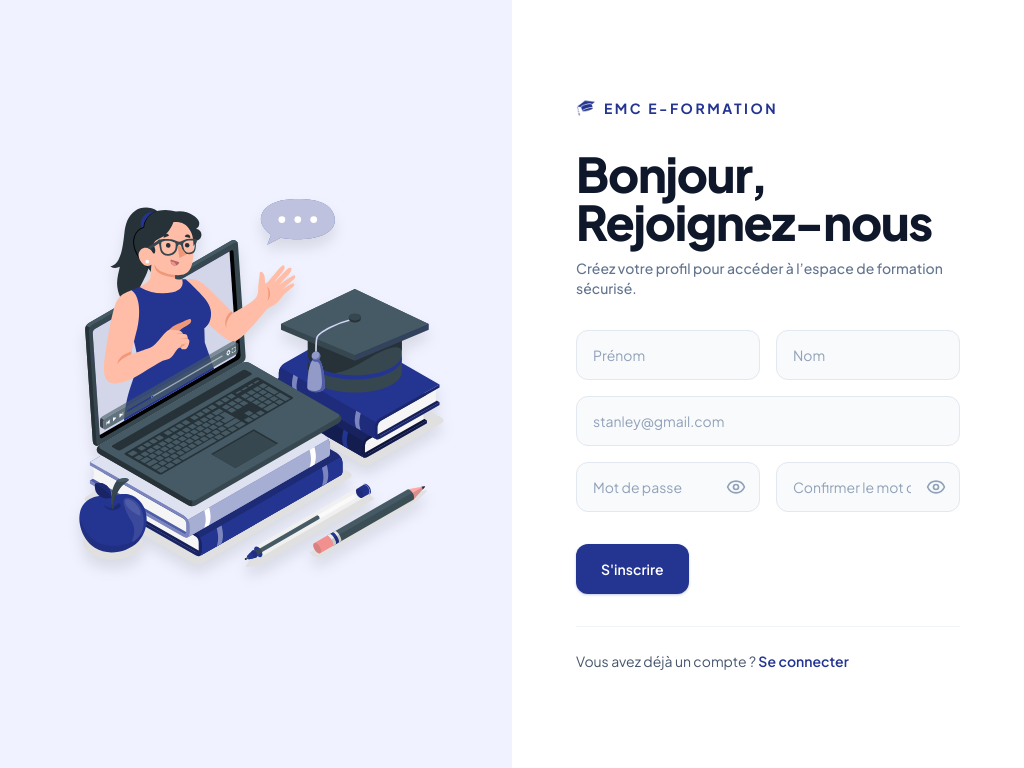
Scenario: Intégration — authentification › signale un e-mail déjà utilisé à l’inscription
Type "Amina" into the field with placeholder "Prénom" at point(668, 354), box [576,330,760,380]
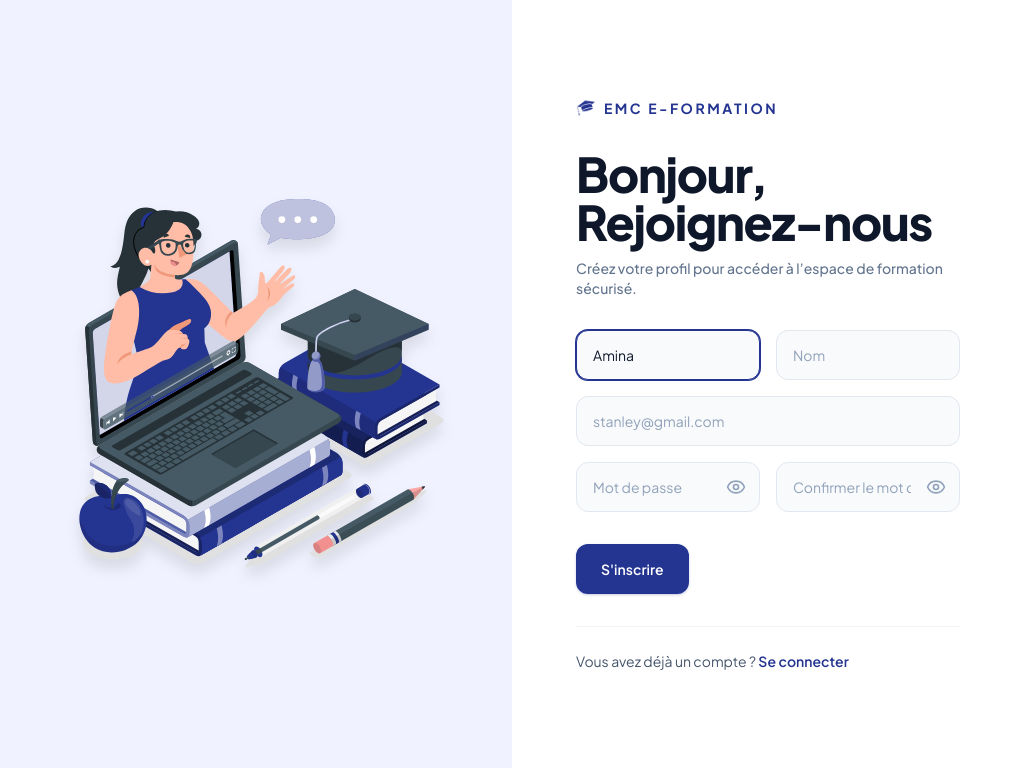
Type "Benali" into the field with placeholder "Nom" at point(868, 354), box [776,330,960,380]
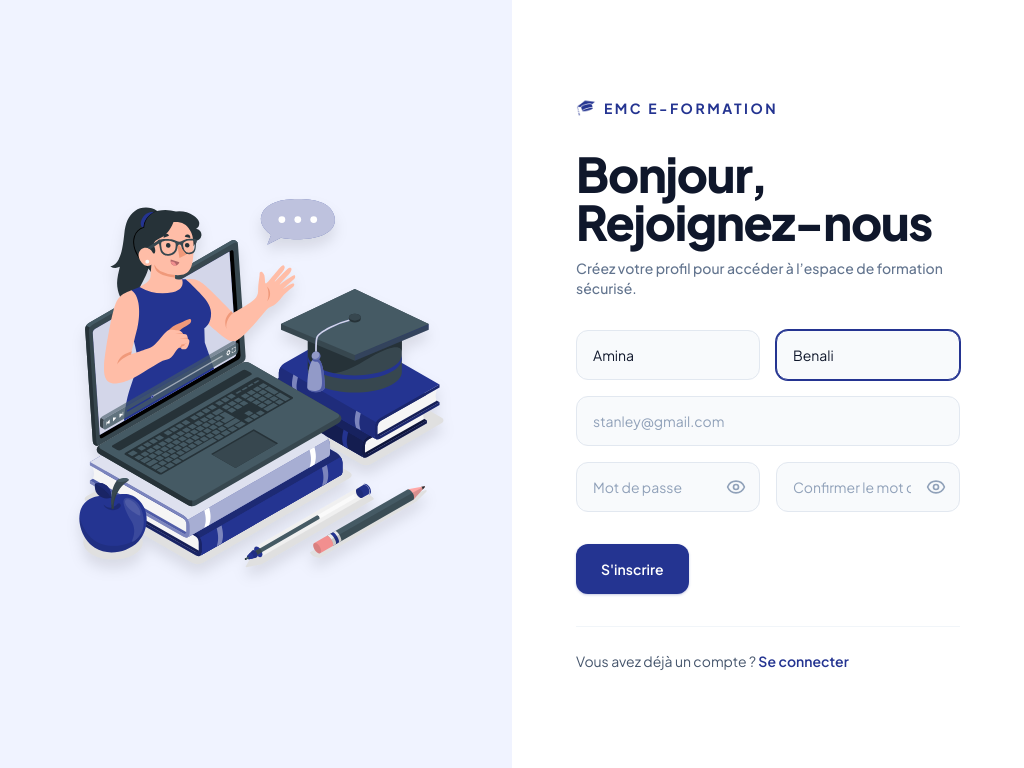
Type "amina@example.com" into the field with placeholder "stanley@gmail.com" at point(768, 420), box [576,396,960,446]
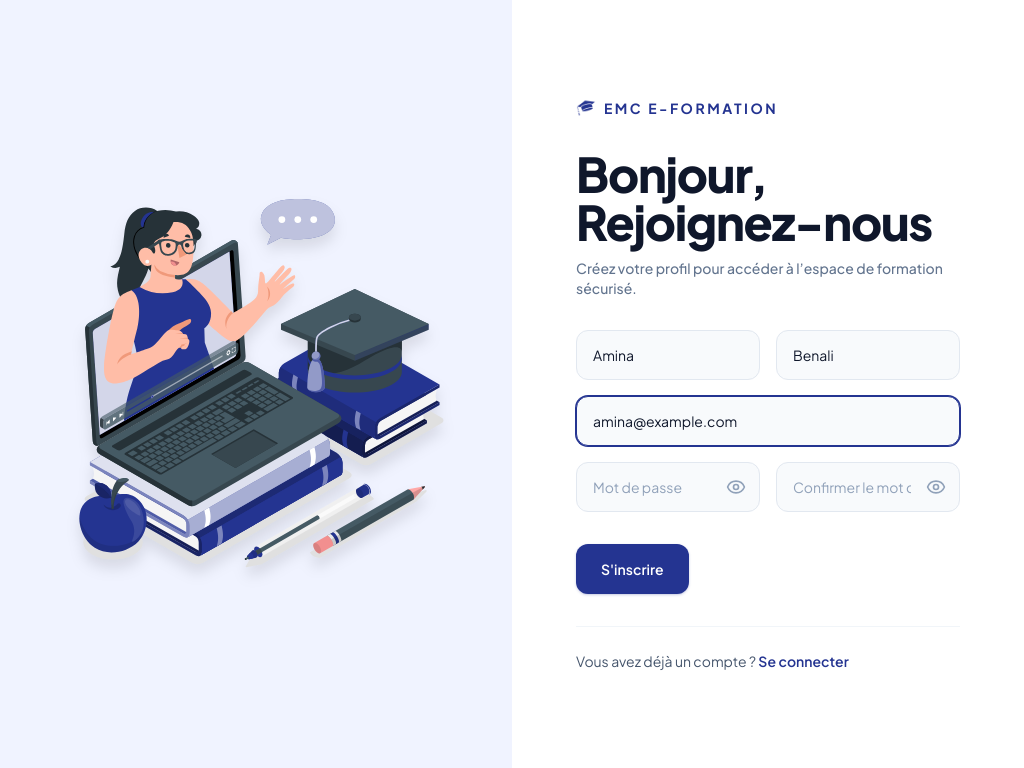
Type "Password1!" into the password field with placeholder "Mot de passe" at point(668, 486), box [576,462,760,512]
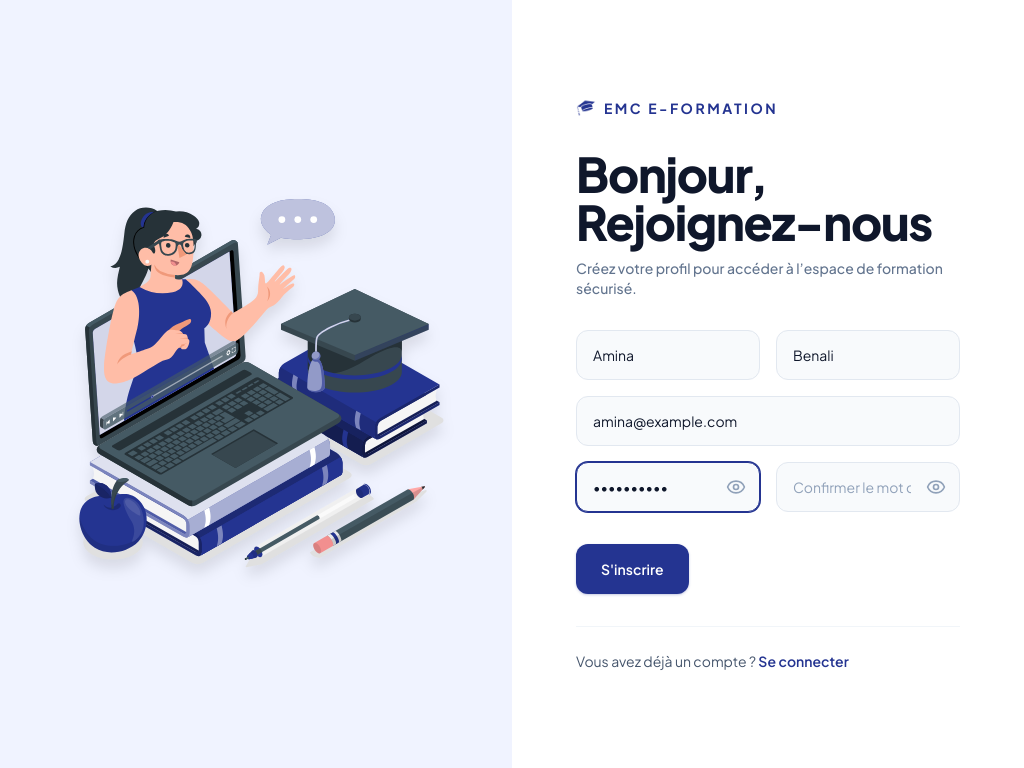
Type "Password1!" into the password field with placeholder "Confirmer le mot de passe" at point(868, 486), box [776,462,960,512]
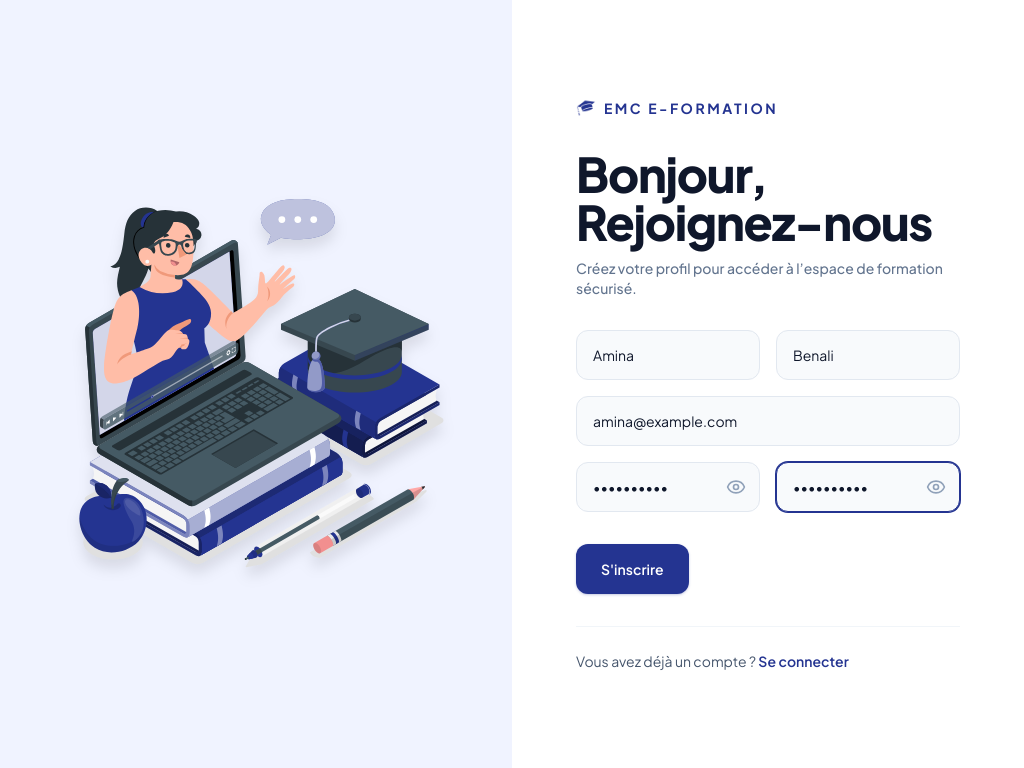
Click the button "S'inscrire" at point(632, 568), box [576,544,688,594]
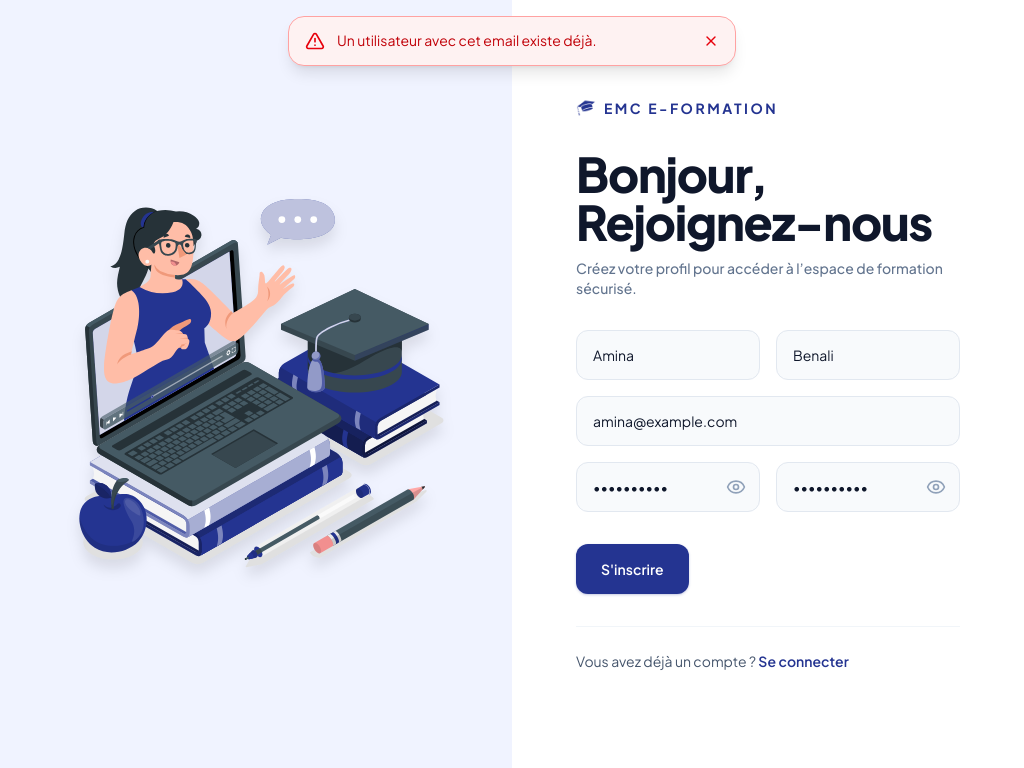
Check: the text "Un utilisateur avec cet email existe déjà." is shown, box [337,31,596,49]
